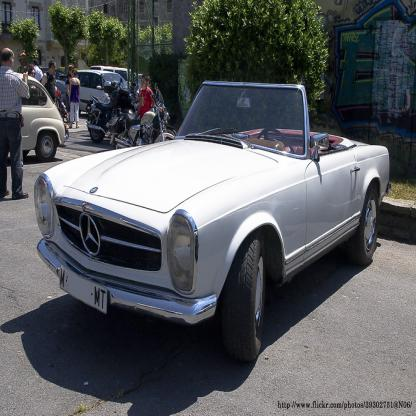Car: (33, 79, 391, 361), (21, 64, 142, 162)
